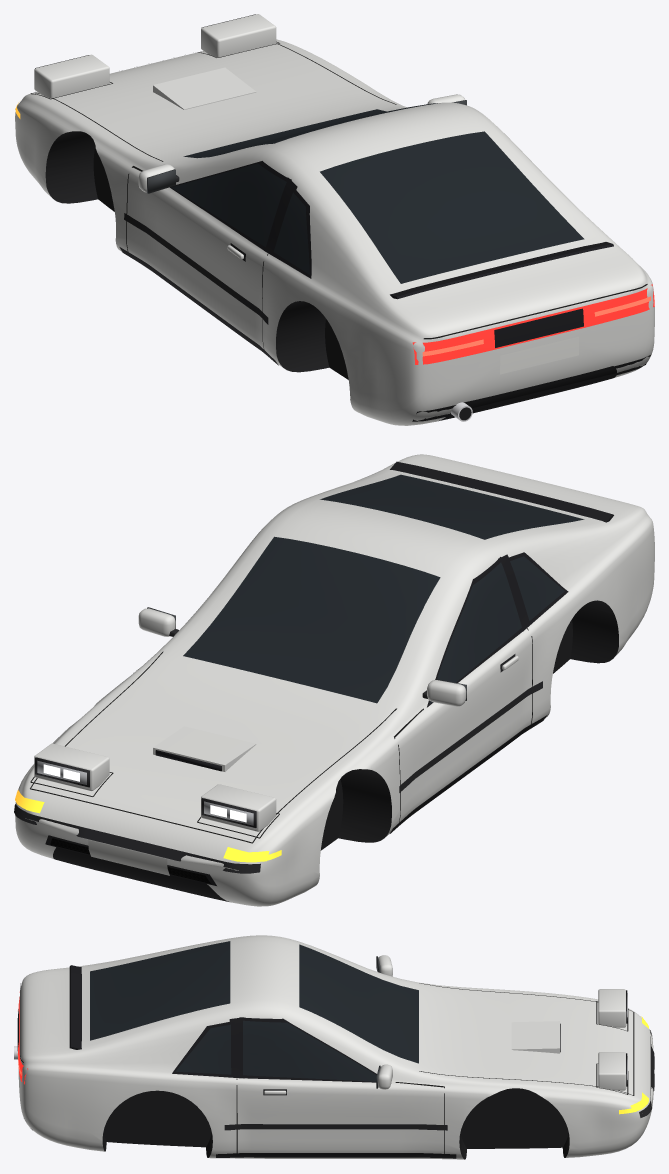
Rendered from coupe_kestrel_rc.glb.
The picture shows the model from 3 angles, top to bottom: view 1: azimuth 30°, elevation 25°; view 2: azimuth 150°, elevation 25°; view 3: azimuth 270°, elevation 25°; orthographic projection. The views are drawn at different scales.
Parts seen in each view (by area): view 1: body, details; view 2: body, details; view 3: body, details.
Part boxes in pixels (bbox=[...]): body: bbox=[15, 39, 654, 425]; details: bbox=[15, 14, 654, 421]; body: bbox=[15, 454, 654, 906]; details: bbox=[14, 461, 613, 885]; body: bbox=[18, 935, 653, 1159]; details: bbox=[14, 955, 654, 1158].
Bounding box in the file's own units: 1.97 × 1.13 × 4.36.
19 materials, 1 textured.
